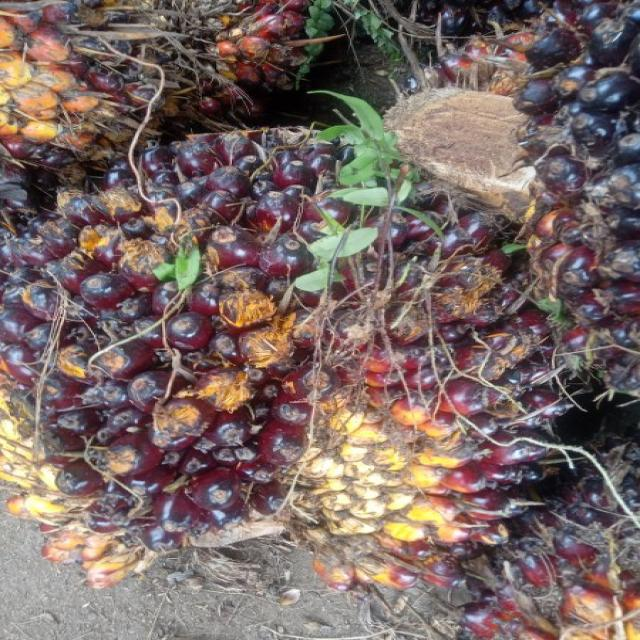fraksi 1: (0, 129, 577, 558)
